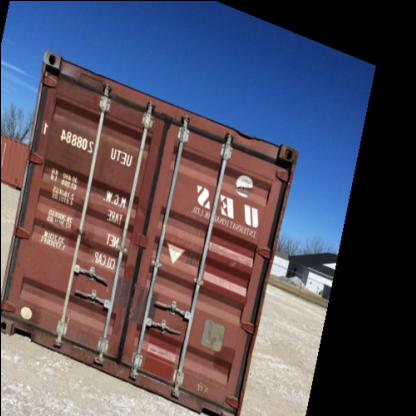Damage: (105, 277, 162, 329), (58, 116, 86, 174), (10, 294, 48, 335), (66, 68, 110, 92), (180, 238, 200, 284), (226, 177, 257, 197), (230, 126, 262, 140), (222, 249, 240, 272)
